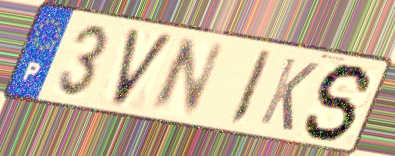3: (56, 23, 112, 100)
I: (225, 48, 275, 129)
K: (255, 54, 322, 134)
N: (144, 36, 229, 116)
S: (301, 62, 376, 144)
V: (110, 25, 178, 111)
